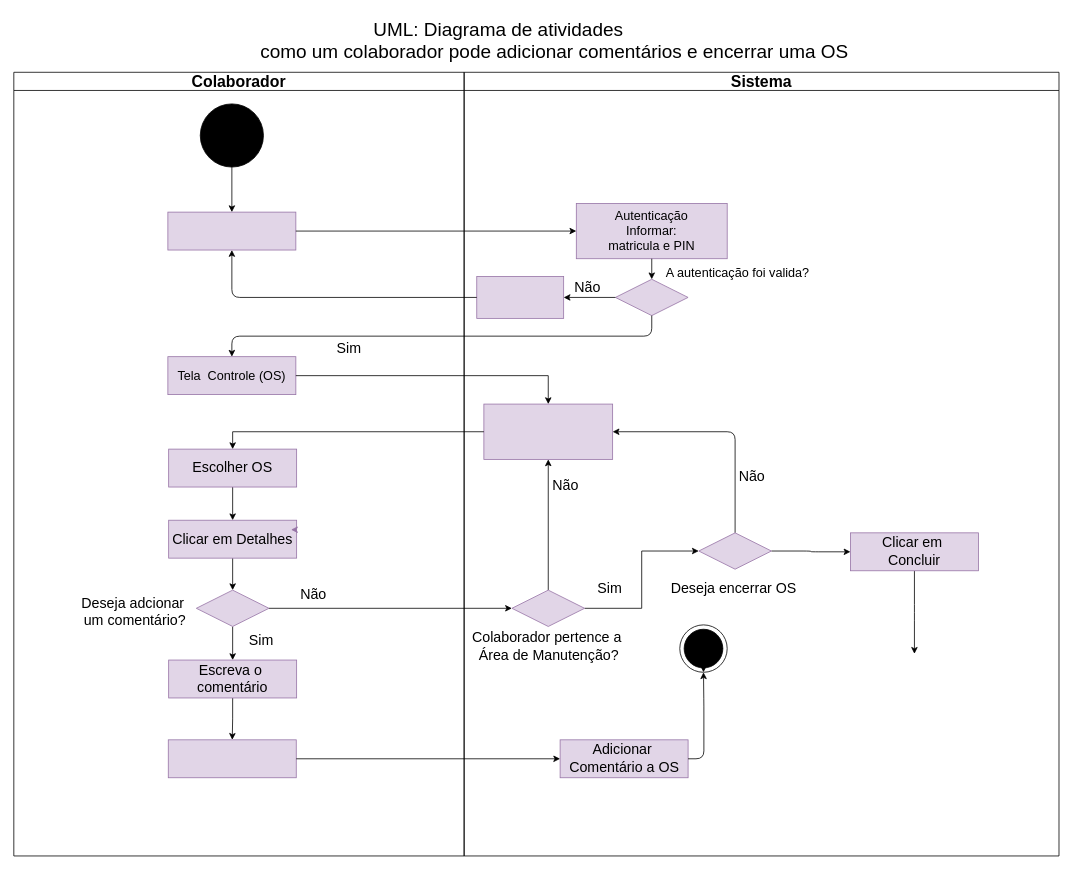
Some shapes in this 1073 by 870 pixel diagram are drawn without their labels. Each missing label, with the box of its shape:
Aviso de Erro: (476, 276, 564, 318)
Clicar em Adicionar: (167, 739, 296, 778)
Listar Ordens de Serviço: (483, 403, 613, 459)
Tela de Login: (167, 211, 296, 250)
